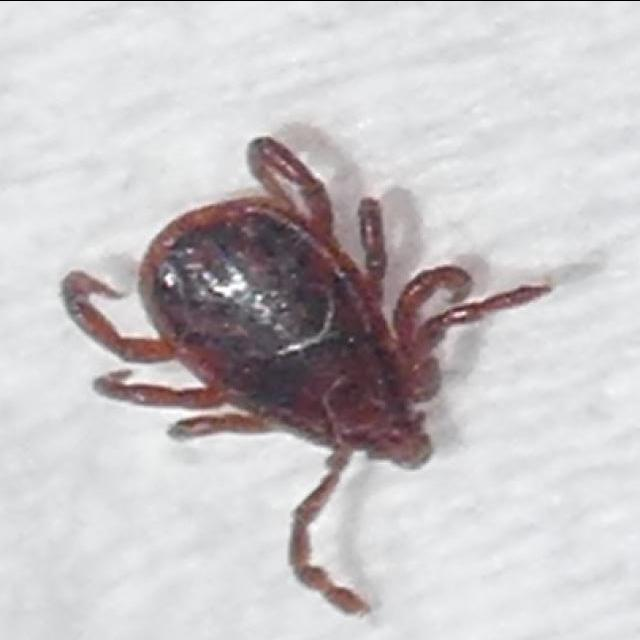Rhipicephalus Sanguineus-M: (62, 133, 553, 616)
